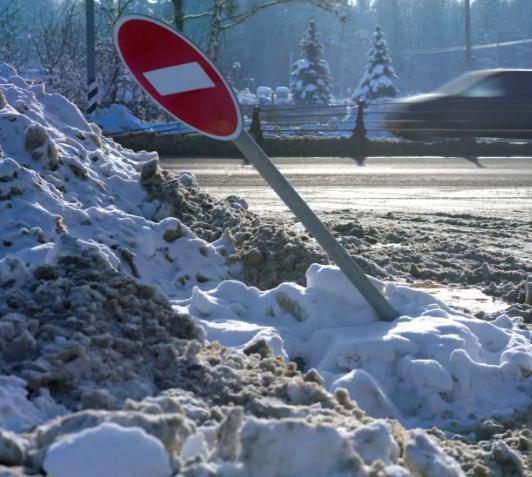road_sign: (116, 16, 240, 139)
